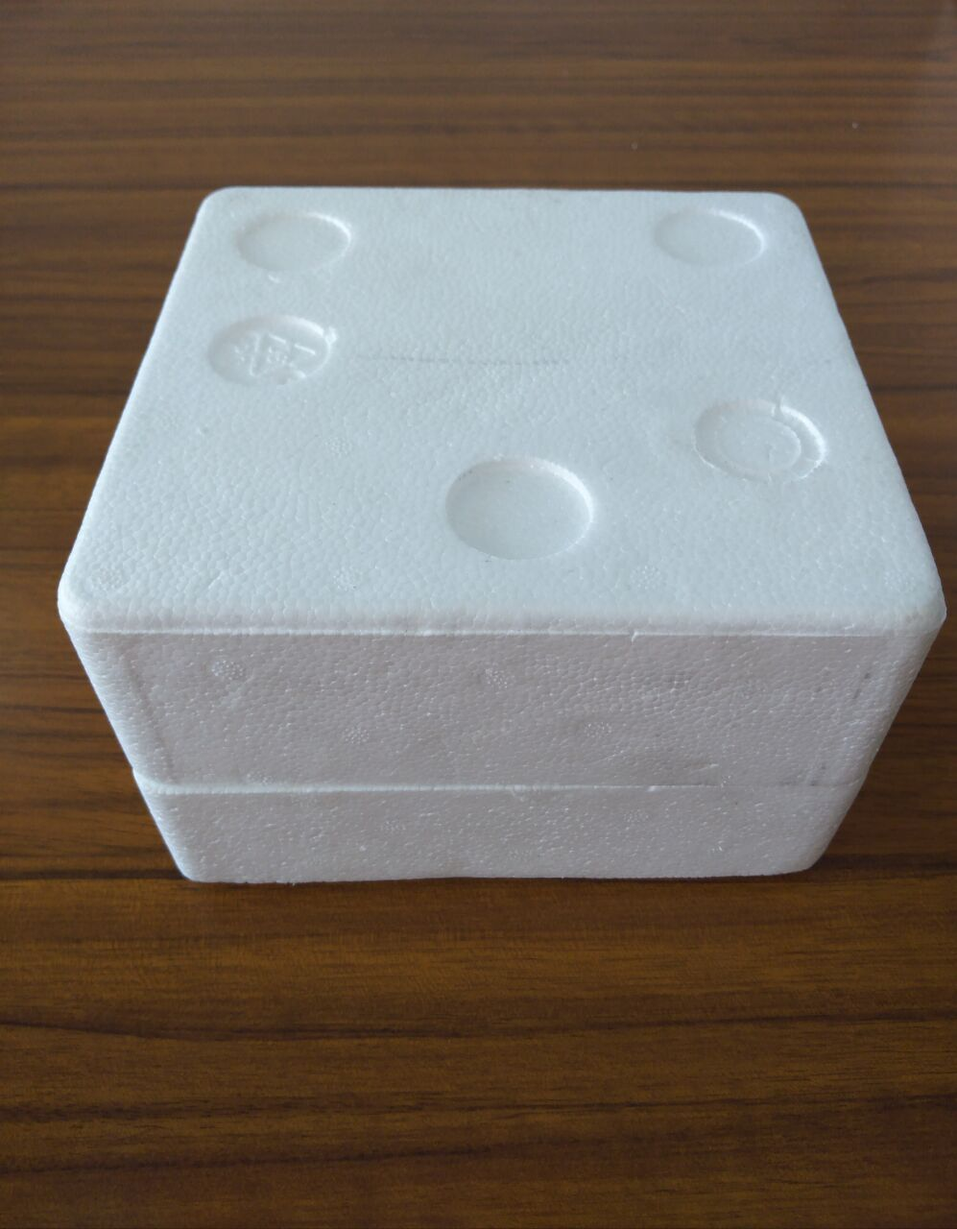Boxes: (59, 188, 944, 882)
